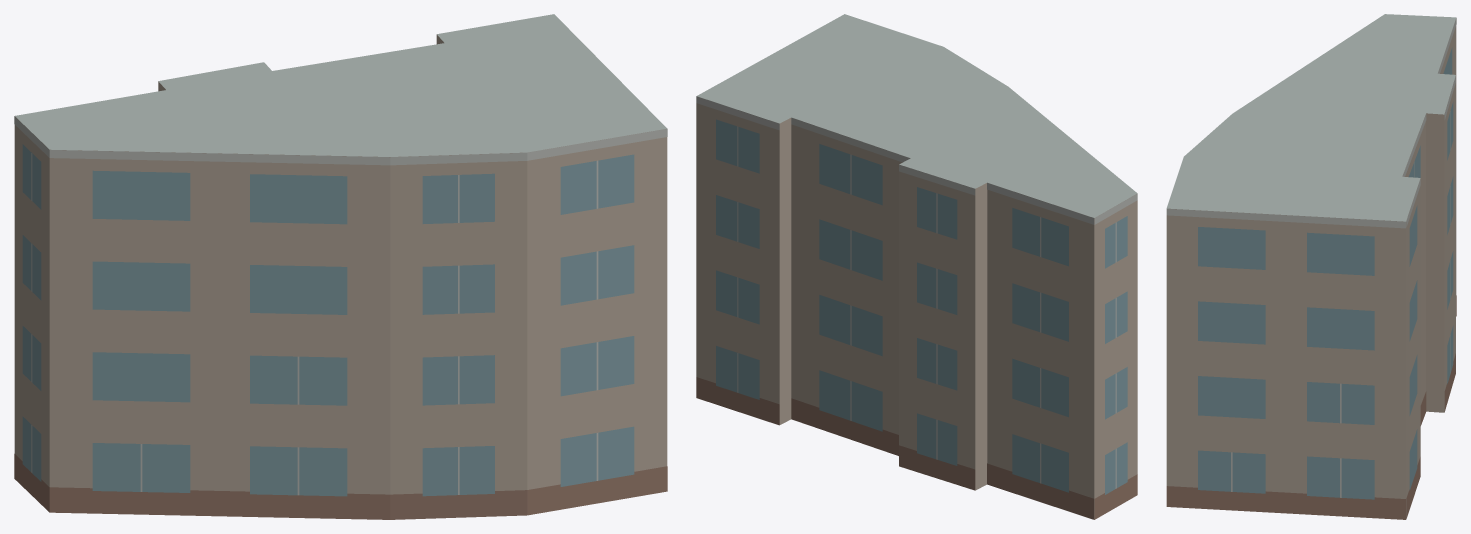
Rendered from survey-upis-32729353.glb.
The picture shows the model from 3 angles, left to right: view 1: azimuth 30°, elevation 25°; view 2: azimuth 150°, elevation 25°; view 3: azimuth 270°, elevation 25°; orthographic projection. The views are drawn at different scales.
Parts seen in each view (by area): view 1: survey-upis-32729353.tmp; view 2: survey-upis-32729353.tmp; view 3: survey-upis-32729353.tmp.
Part boxes in pixels (bbox=[...]): survey-upis-32729353.tmp: bbox=[14, 14, 667, 519]; survey-upis-32729353.tmp: bbox=[696, 14, 1137, 519]; survey-upis-32729353.tmp: bbox=[1166, 14, 1456, 519].
Size of the model in its own units: 15.91 by 10.65 by 9.39.
